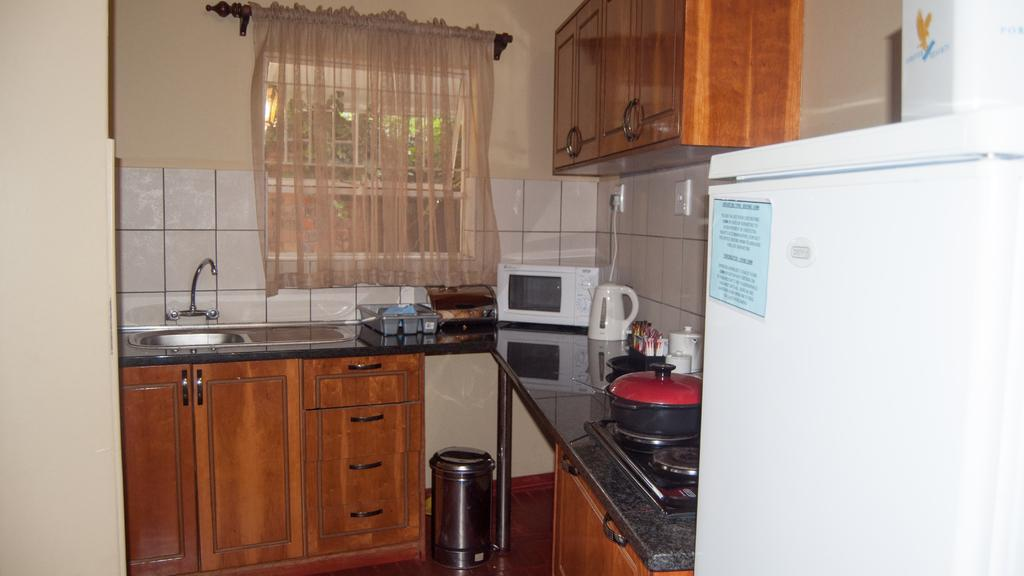cabinet_door: (194, 364, 318, 554), (123, 369, 200, 568), (632, 12, 681, 139), (302, 450, 426, 500), (596, 7, 638, 148), (311, 402, 424, 452), (556, 471, 602, 575), (308, 358, 418, 401), (313, 502, 419, 542), (592, 507, 646, 576), (574, 18, 598, 160), (553, 31, 573, 171), (2, 0, 48, 34)
handle: (598, 518, 628, 552), (344, 407, 390, 428), (342, 456, 386, 477), (622, 100, 644, 138), (193, 370, 211, 408), (174, 372, 190, 409), (346, 508, 388, 522), (558, 451, 580, 476), (617, 108, 633, 141), (348, 360, 385, 374), (566, 129, 580, 161), (562, 131, 576, 159)
